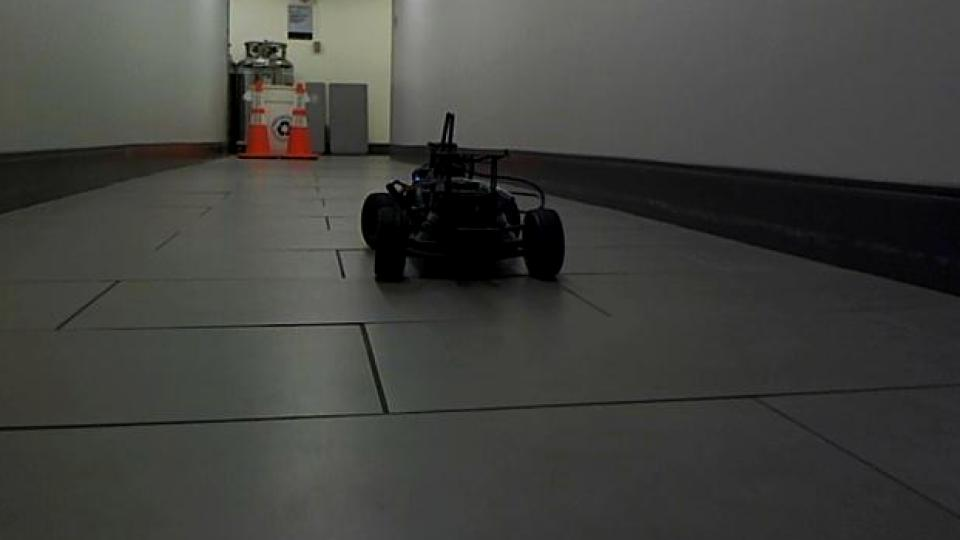car: (358, 110, 570, 286)
